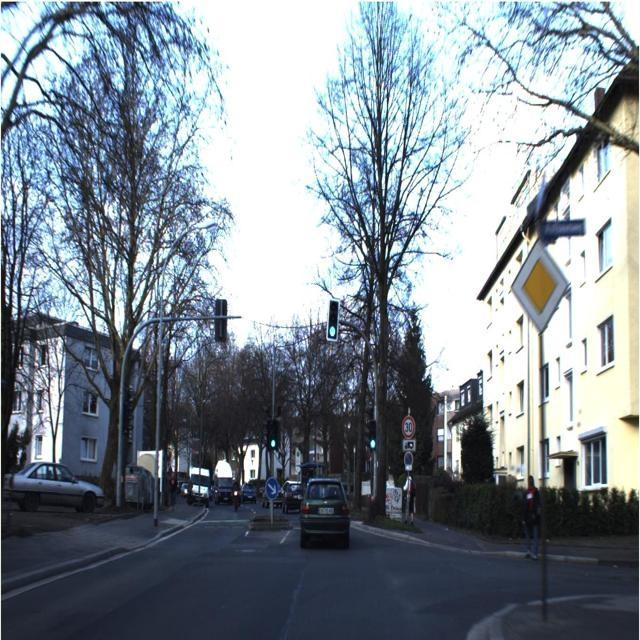forb_speed_over_30: (401, 415, 416, 440)
